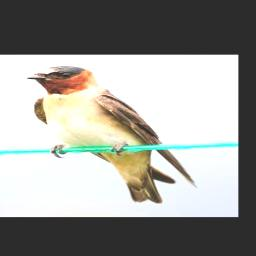Swallow: (26, 65, 198, 204)
